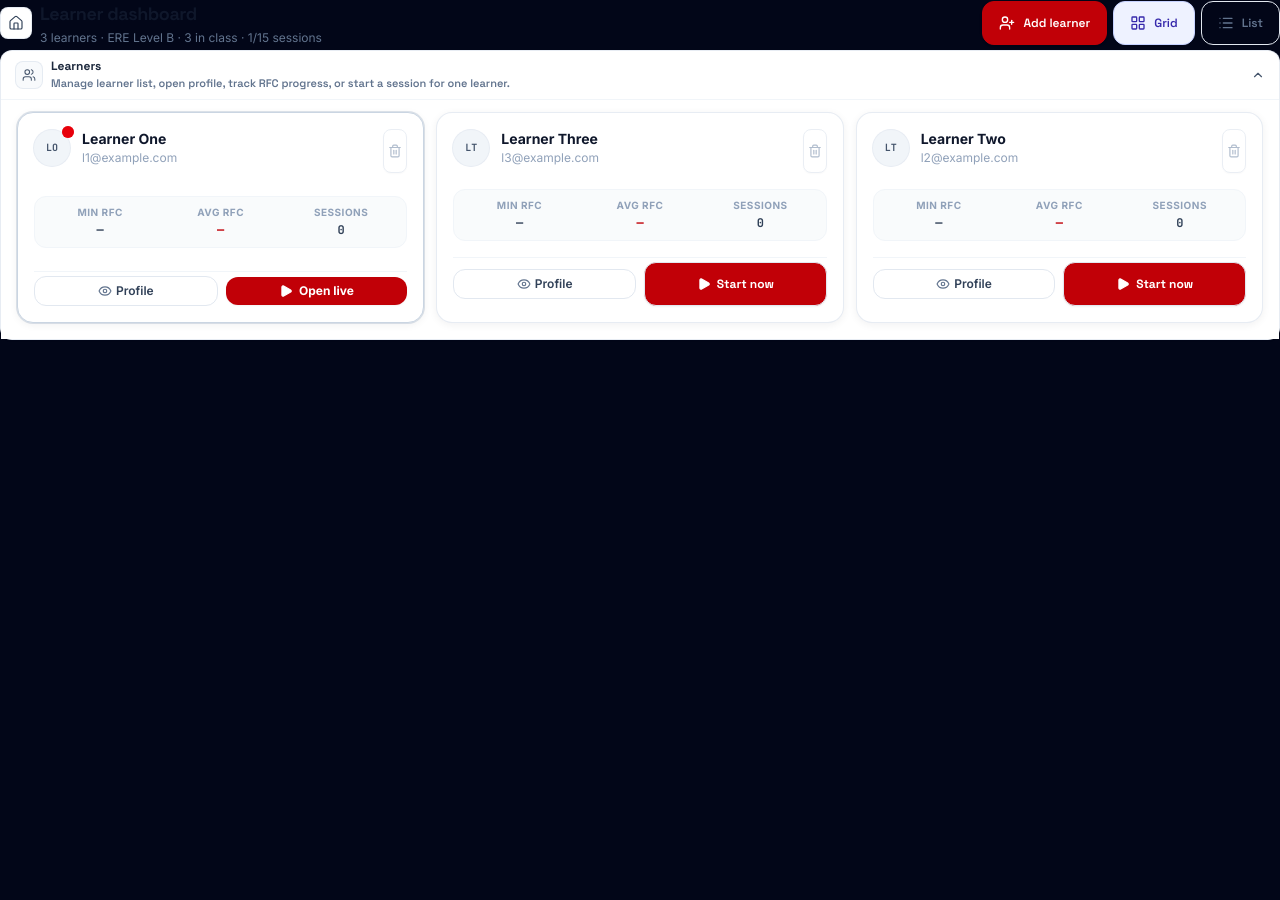
it: TeacherOverviewPage - Add Learner › completes open session, creates new session, and syncs when rollover is confirmed
Click the 1st button "Start now" at coordinates (735, 284), box [644,262,827,306]
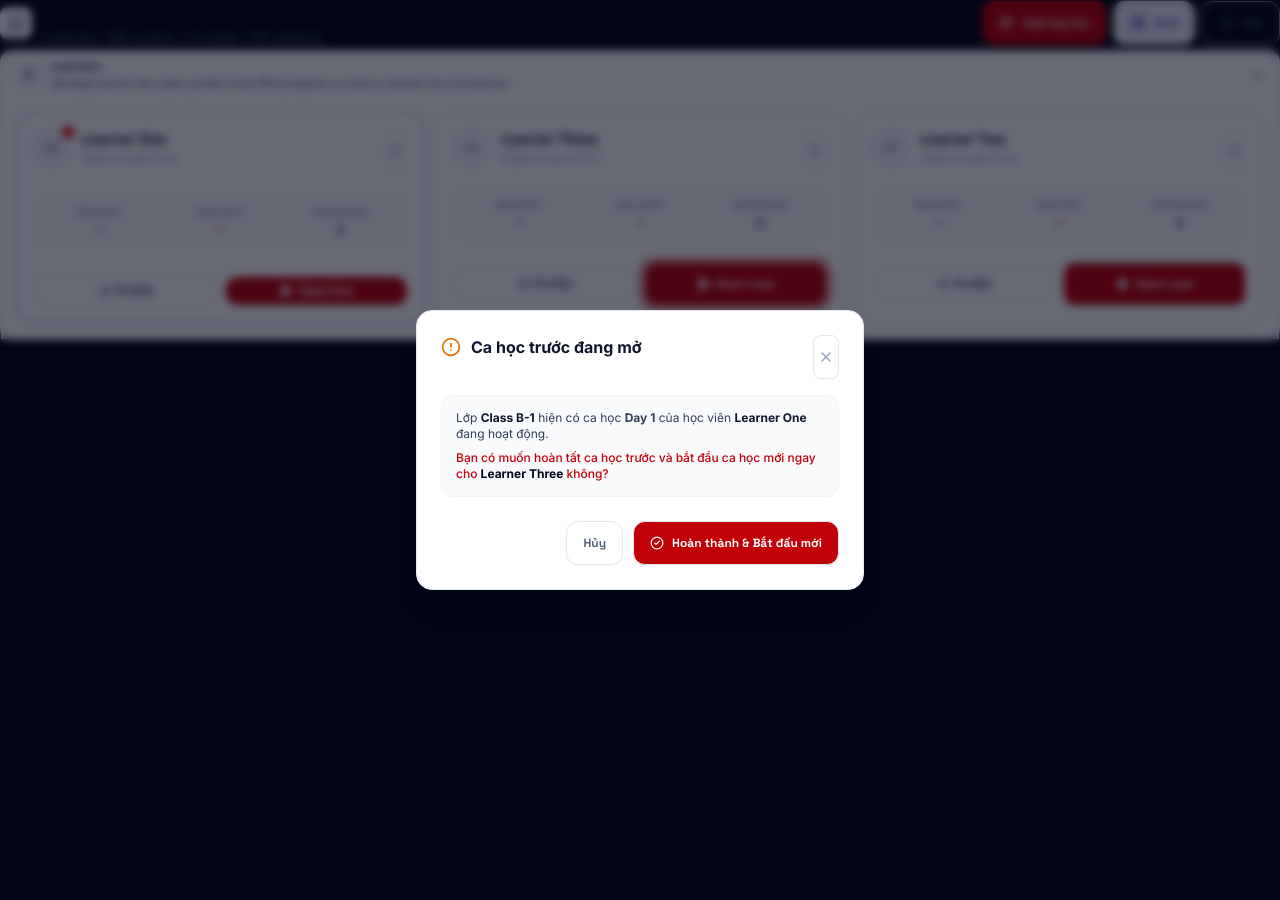
Expected: the heading "Ca học trước đang mở" is shown, [471,335,642,359]
Click the button "Hoàn thành & Bắt đầu mới" at coordinates (736, 543), box [633,521,839,565]
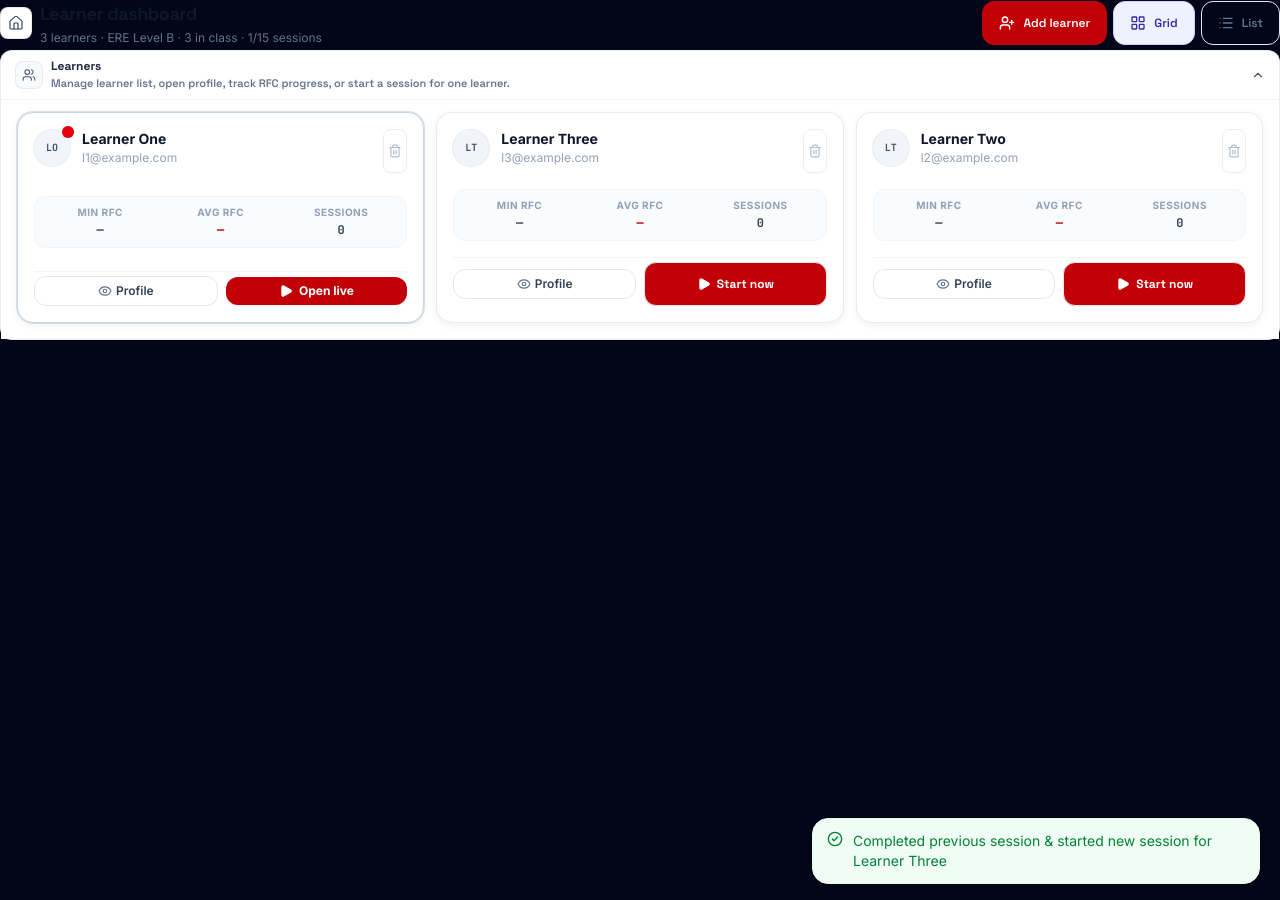
Expected: the heading "Ca học trước đang mở" is gone
